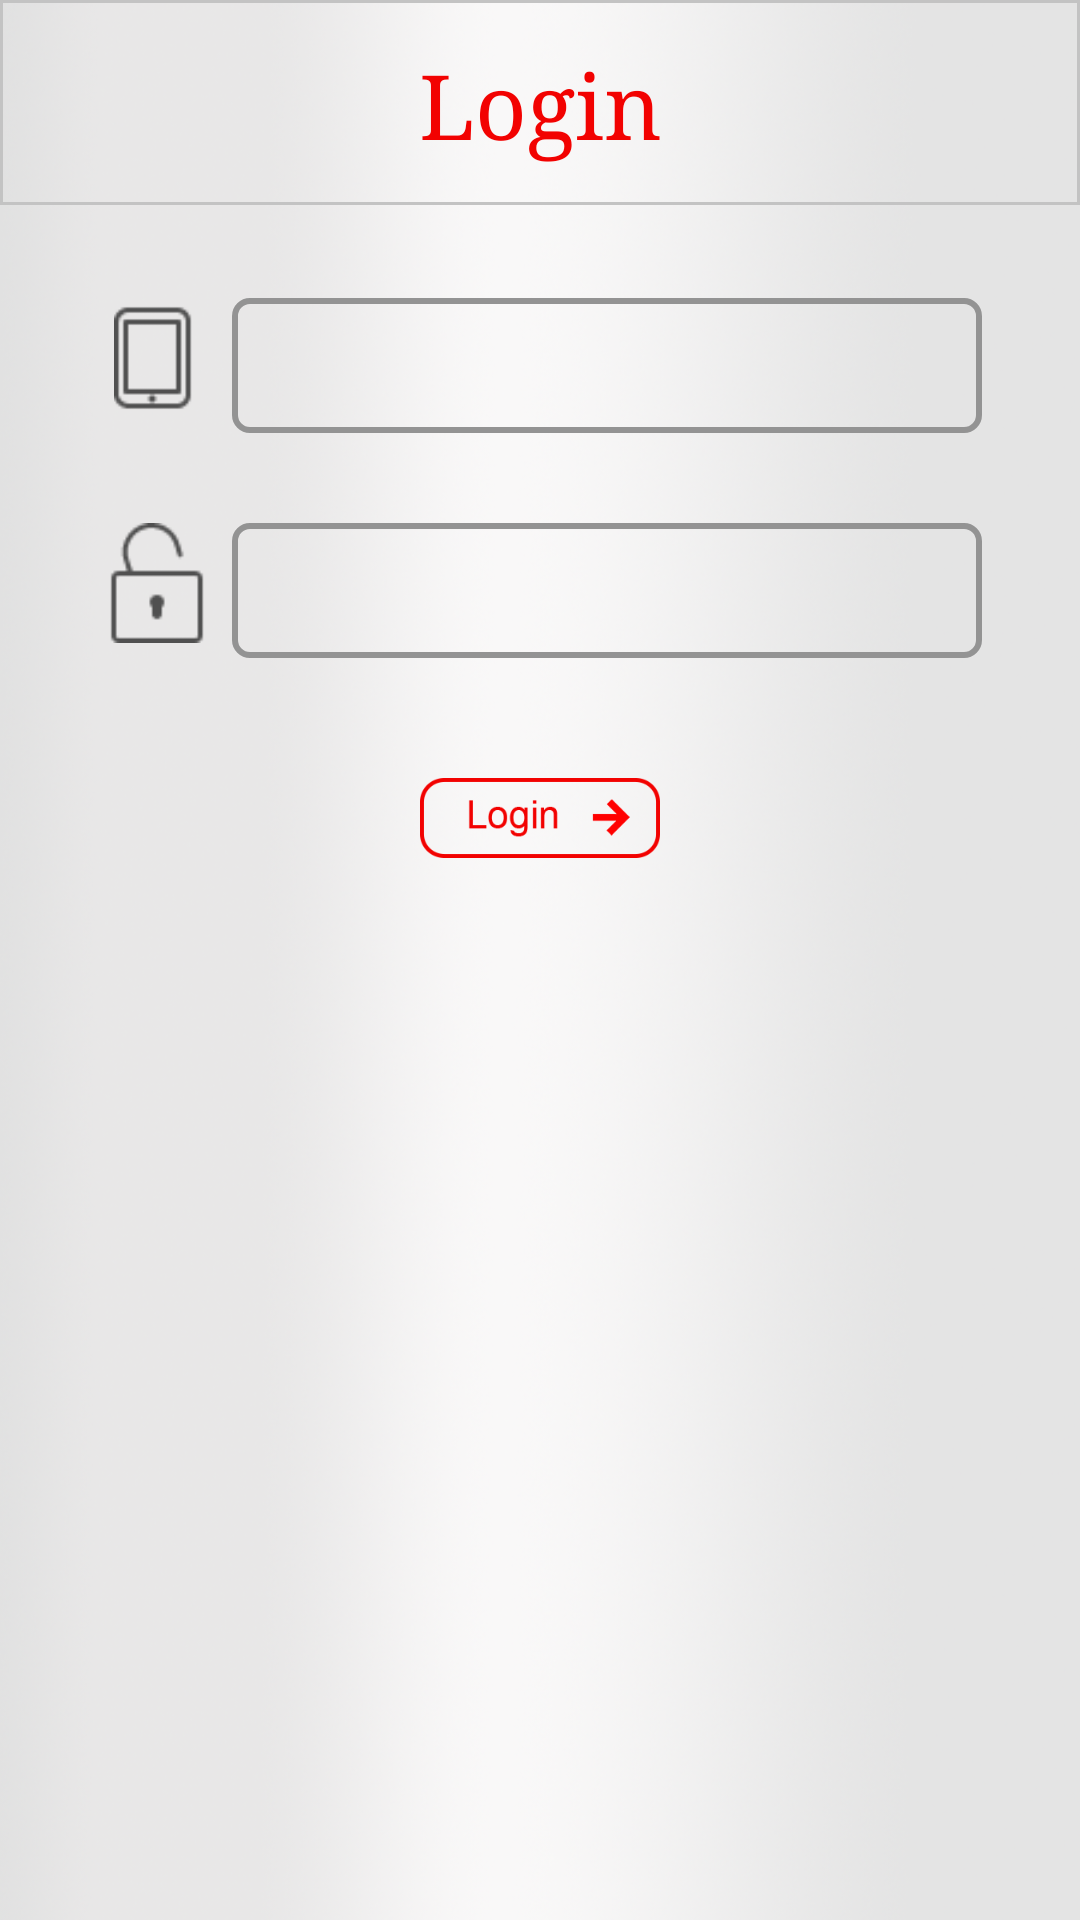

Named icons in this screenshot (1080px×1920px) and their centers, point (x, y):
mobile: point (152, 358)
unlock: point (157, 583)
